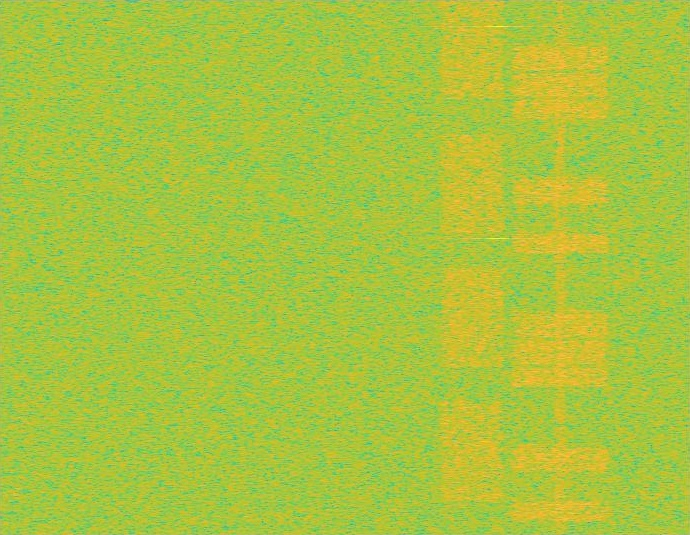5G: (438, 0, 507, 534)
DSSS: (554, 0, 568, 534)
LTE: (509, 0, 612, 534)
Radar: (491, 0, 504, 534)
